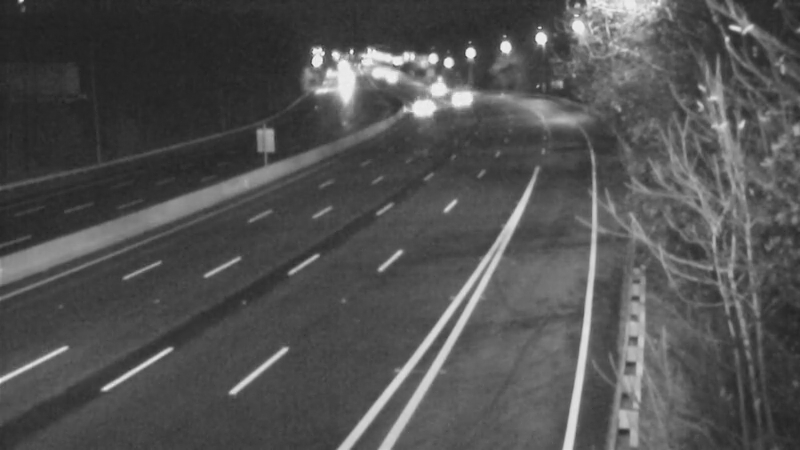vehicle: (362, 53, 412, 103), (408, 63, 458, 113), (434, 73, 484, 123), (394, 81, 444, 131), (320, 61, 370, 111)
